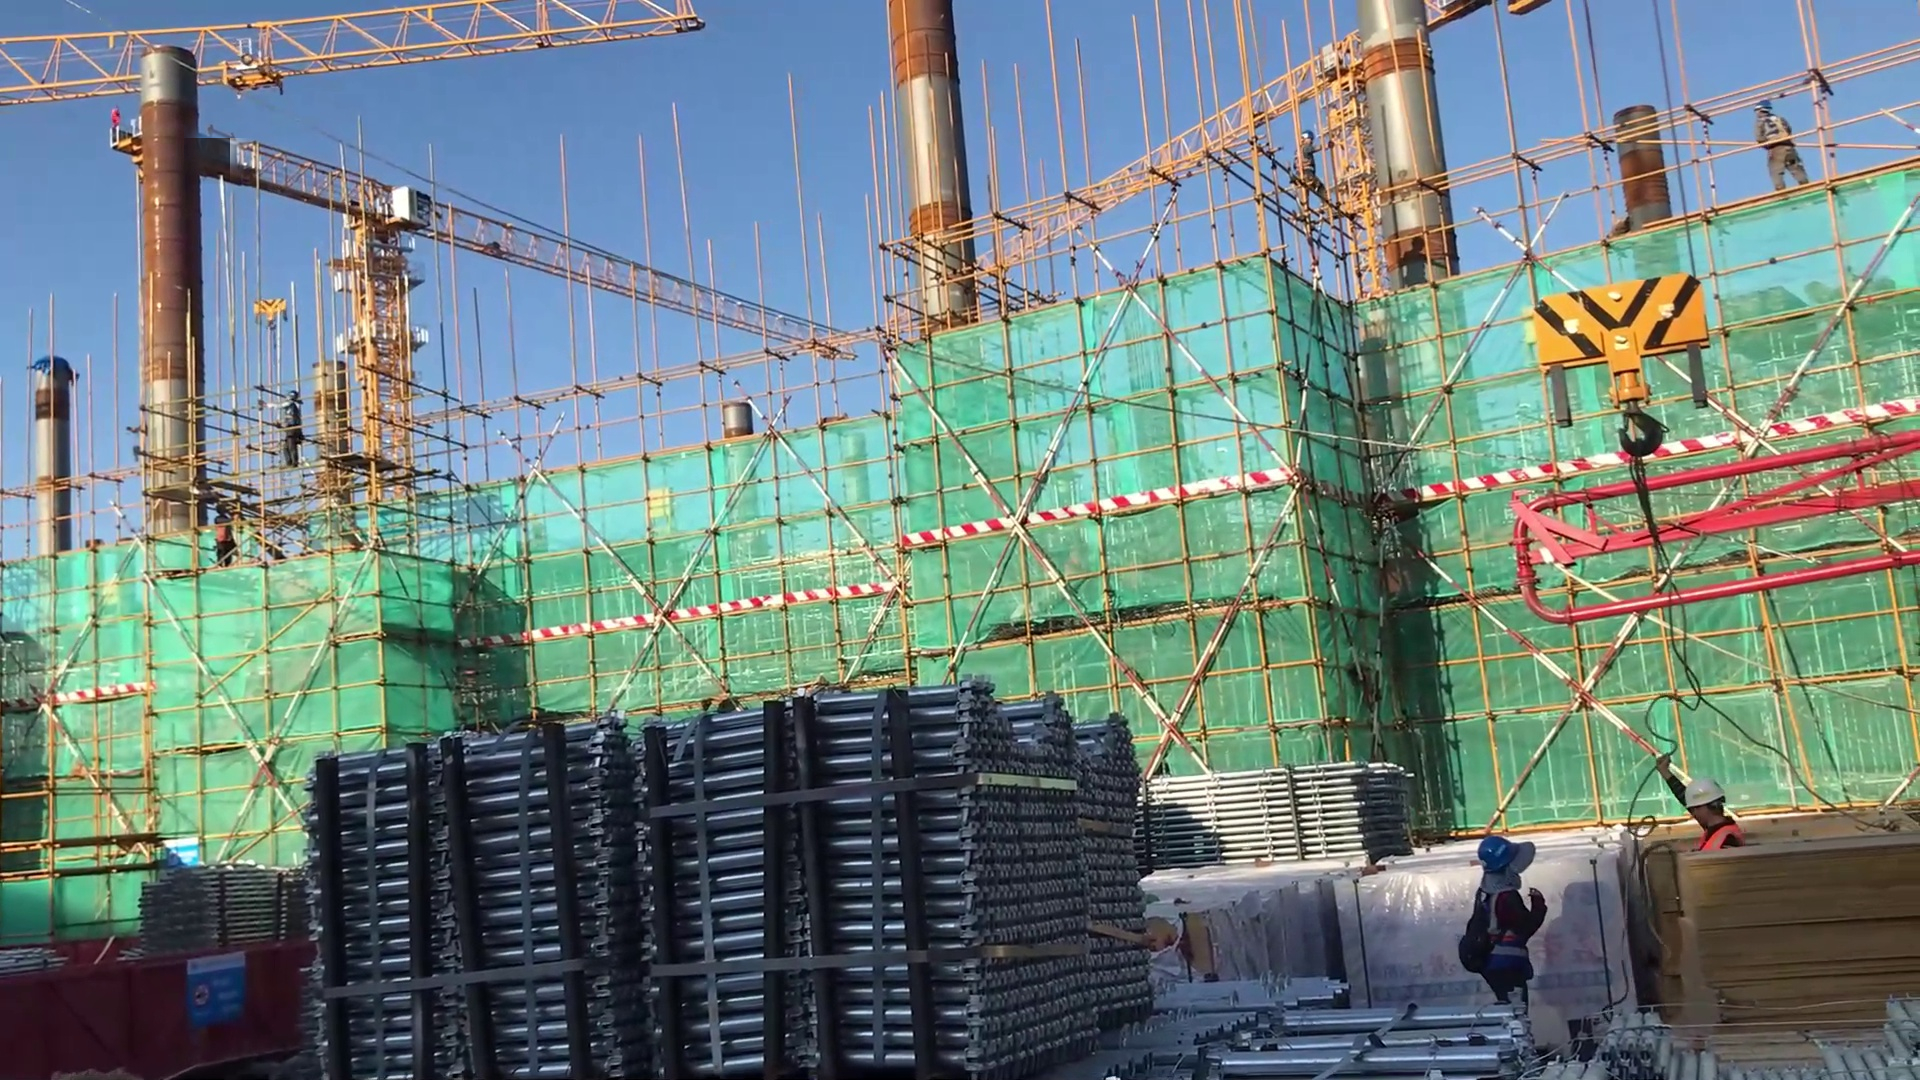board: (1651, 815, 1920, 1035)
fence: (1, 955, 305, 1080)
helmet: (1678, 771, 1738, 832), (1478, 829, 1541, 878), (1750, 96, 1786, 121), (288, 385, 303, 408)
hook: (1525, 264, 1745, 559), (244, 281, 304, 352)
person: (1455, 826, 1554, 1042), (1643, 746, 1762, 872), (1743, 88, 1814, 200), (263, 382, 308, 472), (204, 500, 251, 582)
scaffold: (312, 653, 1155, 1078), (1125, 952, 1561, 1080), (1126, 752, 1422, 878), (1577, 1001, 1920, 1080), (123, 852, 305, 962)
slogan: (191, 951, 250, 1016), (155, 831, 202, 870)
vest: (1469, 876, 1537, 987), (1690, 821, 1747, 861), (1760, 114, 1793, 146)
